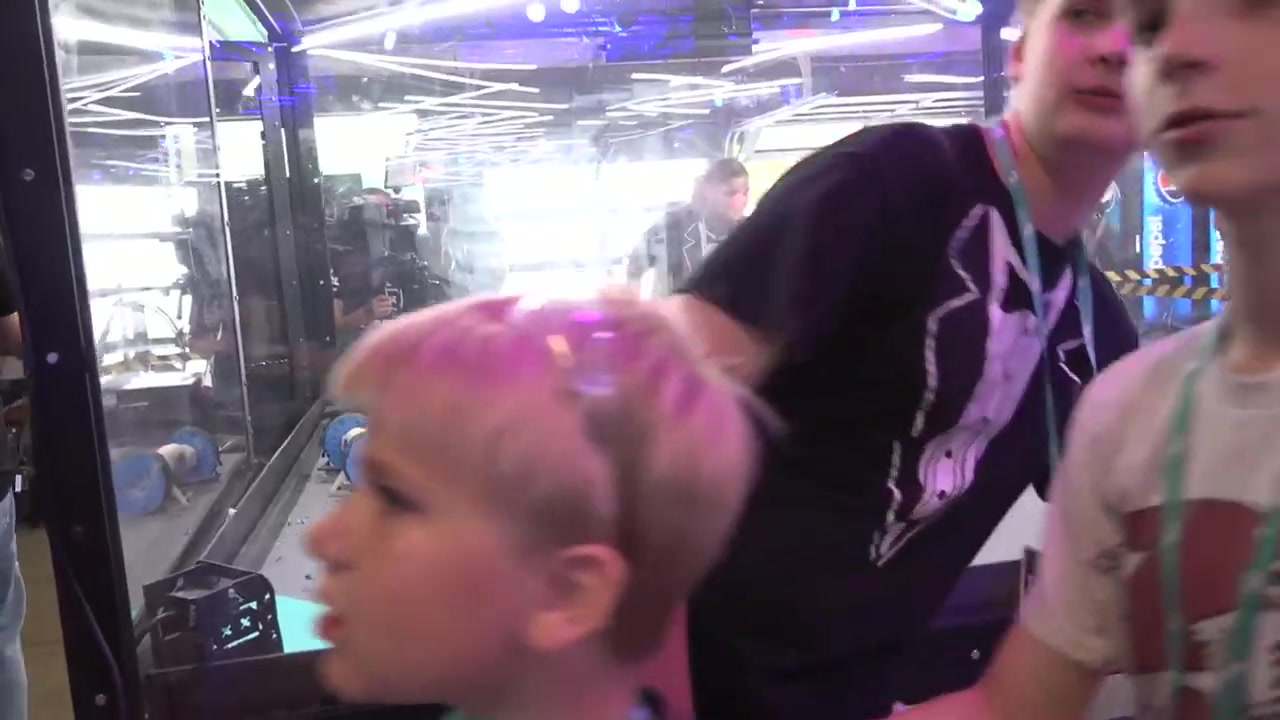combatbot: (314, 408, 372, 495)
